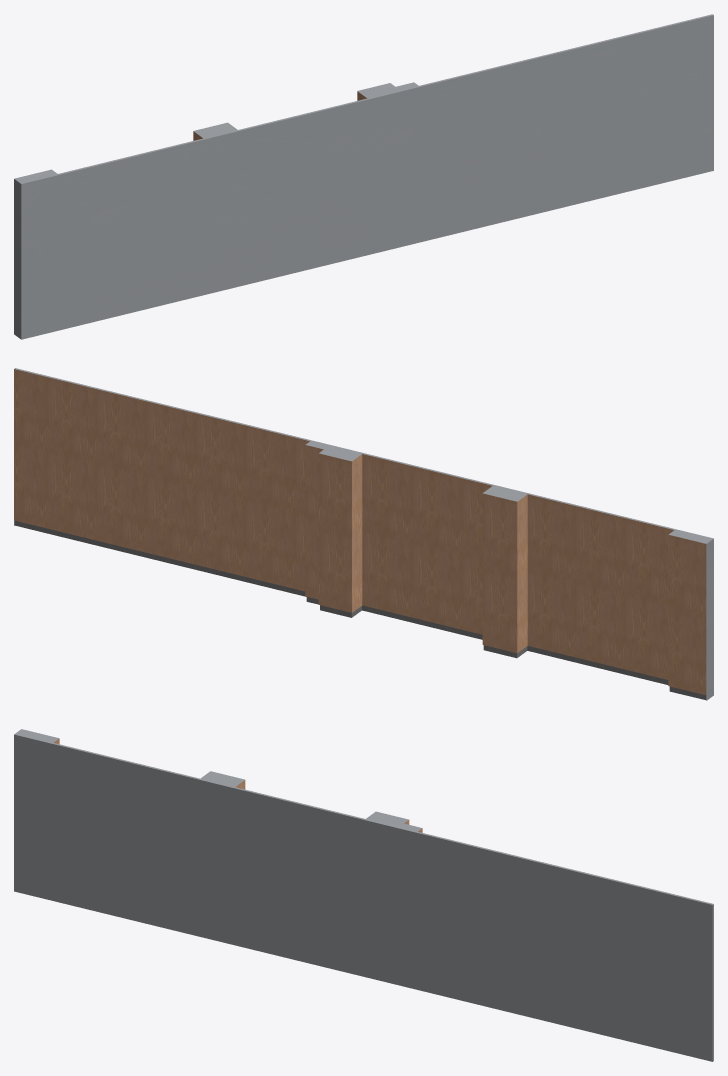
3 views of the same model, one above another, from view 1: azimuth 30°, elevation 25°; view 2: azimuth 150°, elevation 25°; view 3: azimuth 330°, elevation 25° (orthographic).
Visible parts, largest first — view 1: 왼쪽벽; view 2: 왼쪽벽; view 3: 왼쪽벽.
Boxes of the visible parts, x1=… form: 왼쪽벽: x1=14, y1=14, x2=713, y2=339; 왼쪽벽: x1=14, y1=368, x2=713, y2=700; 왼쪽벽: x1=14, y1=729, x2=713, y2=1061.
Bounding box in the file's own units: 2440 × 524 × 70.26.
